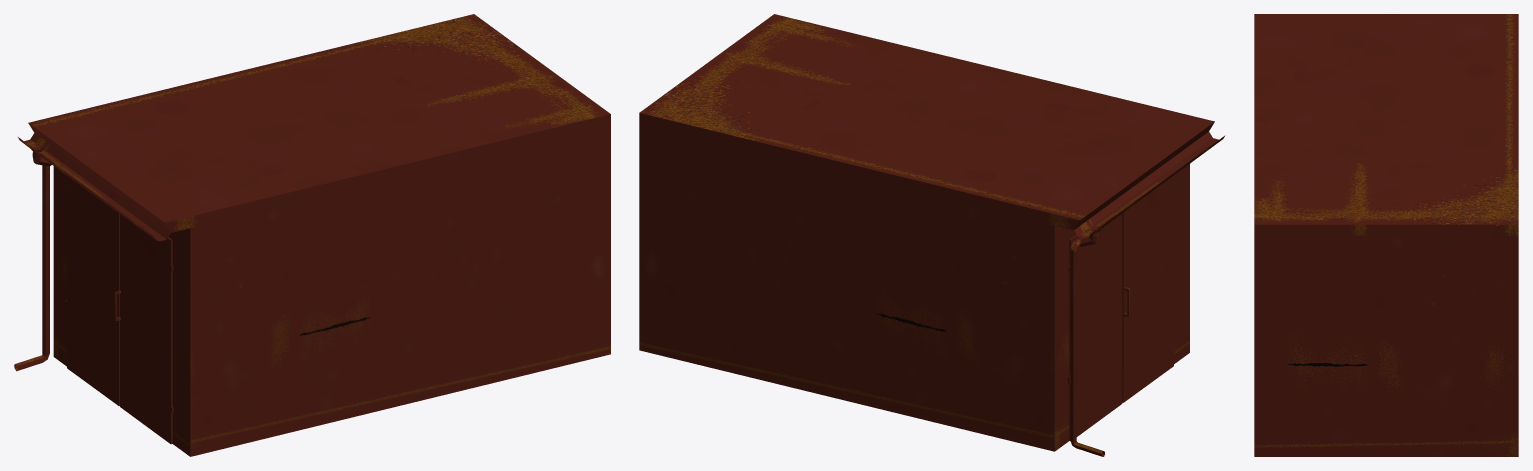
The model's file is Model_Garaz_R.fbx.
The picture shows the model from 3 angles, left to right: view 1: azimuth 30°, elevation 25°; view 2: azimuth 150°, elevation 25°; view 3: azimuth 270°, elevation 25°; orthographic projection. The views are drawn at different scales.
Parts seen in each view (by area): view 1: Niebieski; view 2: Niebieski; view 3: Niebieski.
Part boxes in pixels (box(x1,y1,x2,y2)): Niebieski: box(14, 14, 610, 456); Niebieski: box(639, 14, 1225, 456); Niebieski: box(1254, 14, 1518, 456).
Size of the model in its own units: 256 by 248 by 501.
